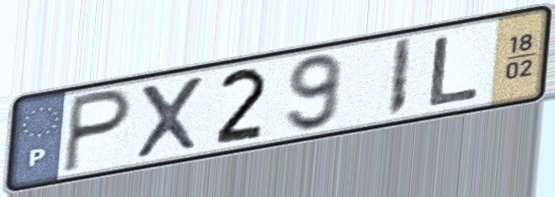2: (213, 65, 269, 146)
9: (283, 51, 346, 133)
I: (383, 35, 415, 121)
L: (425, 32, 484, 109)
P: (59, 86, 136, 176)
X: (132, 72, 207, 163)
